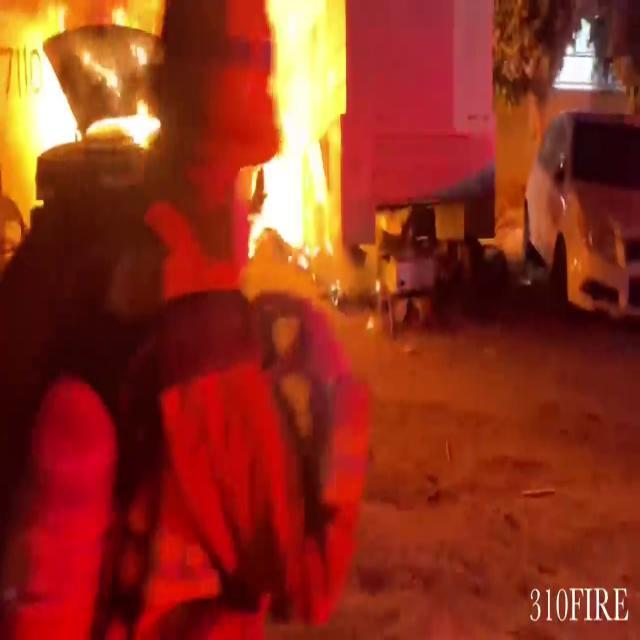Fire: (232, 0, 382, 292), (0, 1, 173, 206)
